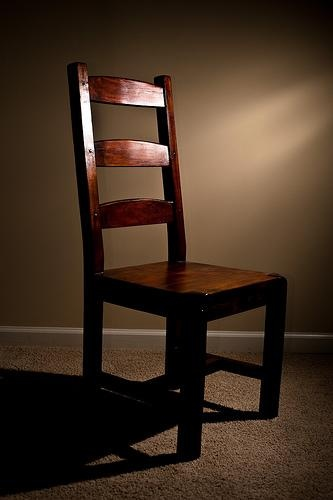obstacle: (68, 63, 286, 460)
